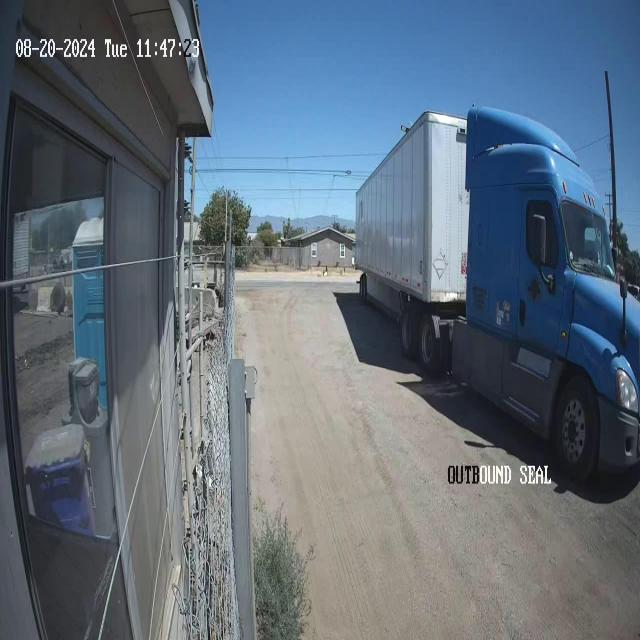TRUCK_CONTAINER: (354, 106, 640, 502)
